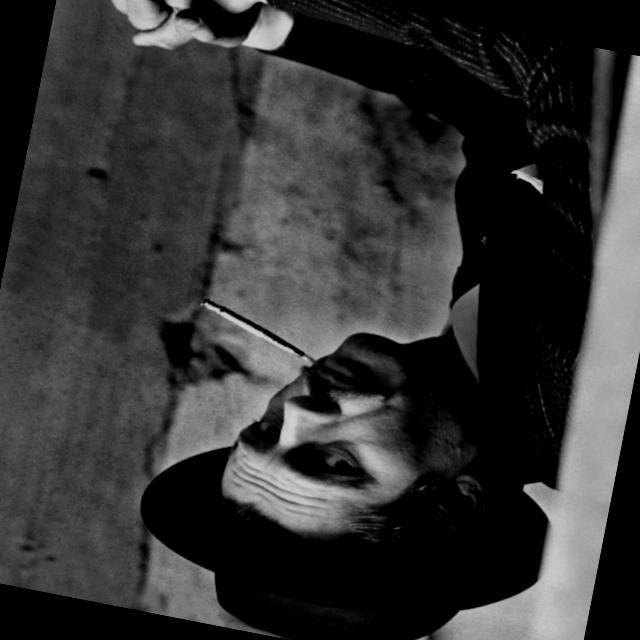smoke: (164, 284, 340, 378)
